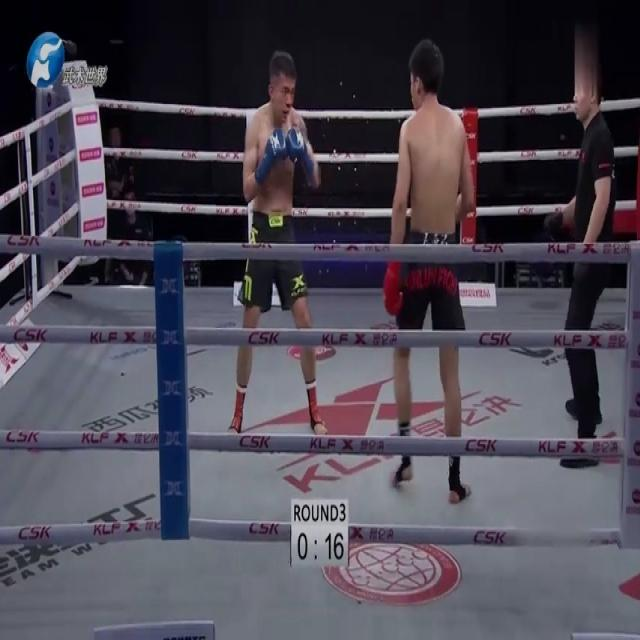fight: (215, 34, 476, 506)
non-fight: (547, 41, 615, 459)
